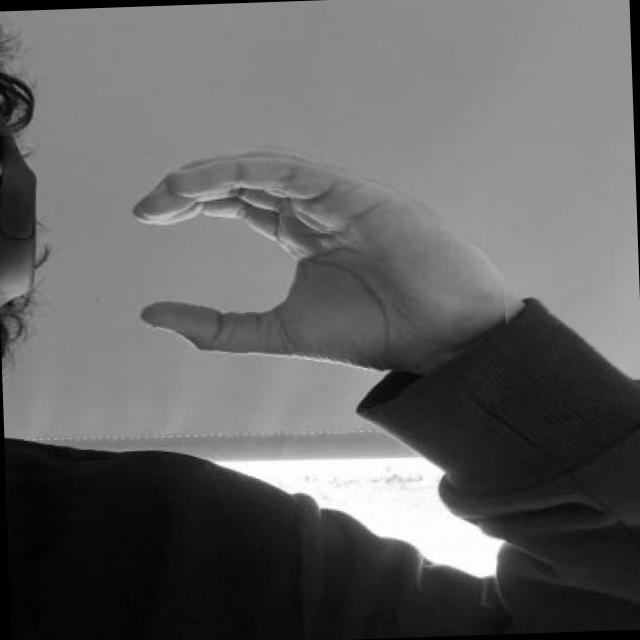C: (124, 128, 508, 408)
